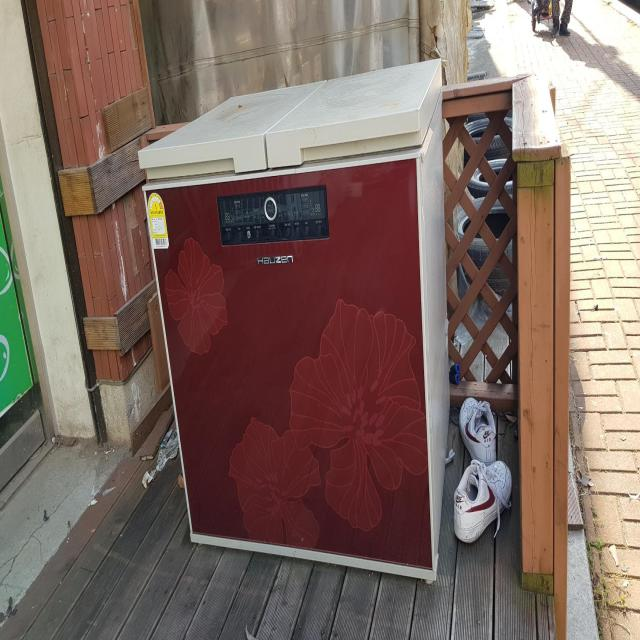refrigerator: (134, 53, 454, 593)
